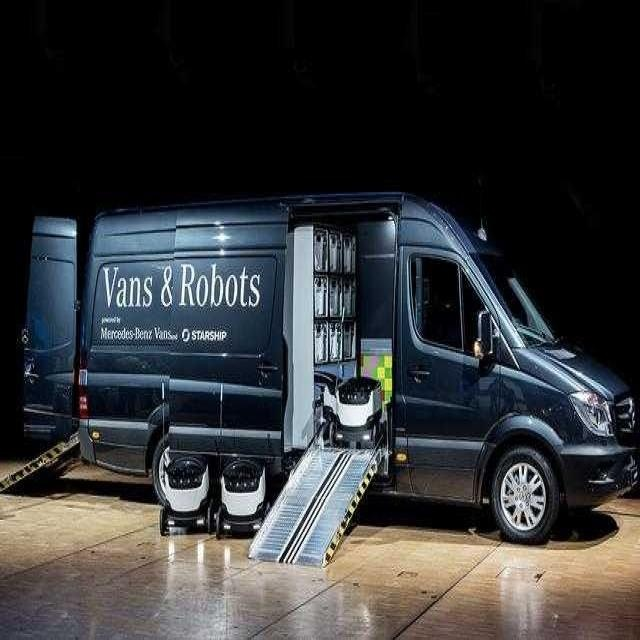Van: (19, 196, 636, 543)
